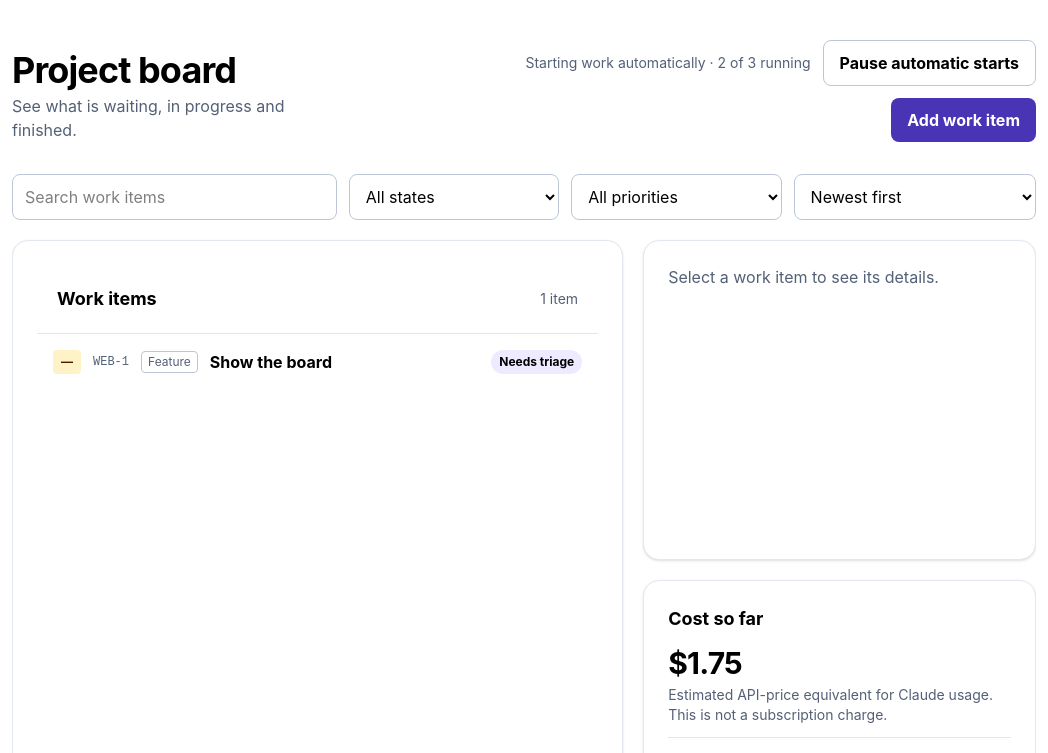
Test case: shows the project's cost beside its work, and an item's cost in its overview
expect the text "$1.75" is shown: met, box [668,645,742,681]
What coordinates should you click on to do the following:
click the button "— WEB-1 Feature Show the board Needs triage"
I would click on:
 (318, 362)
Its box is [45,342,590,382].
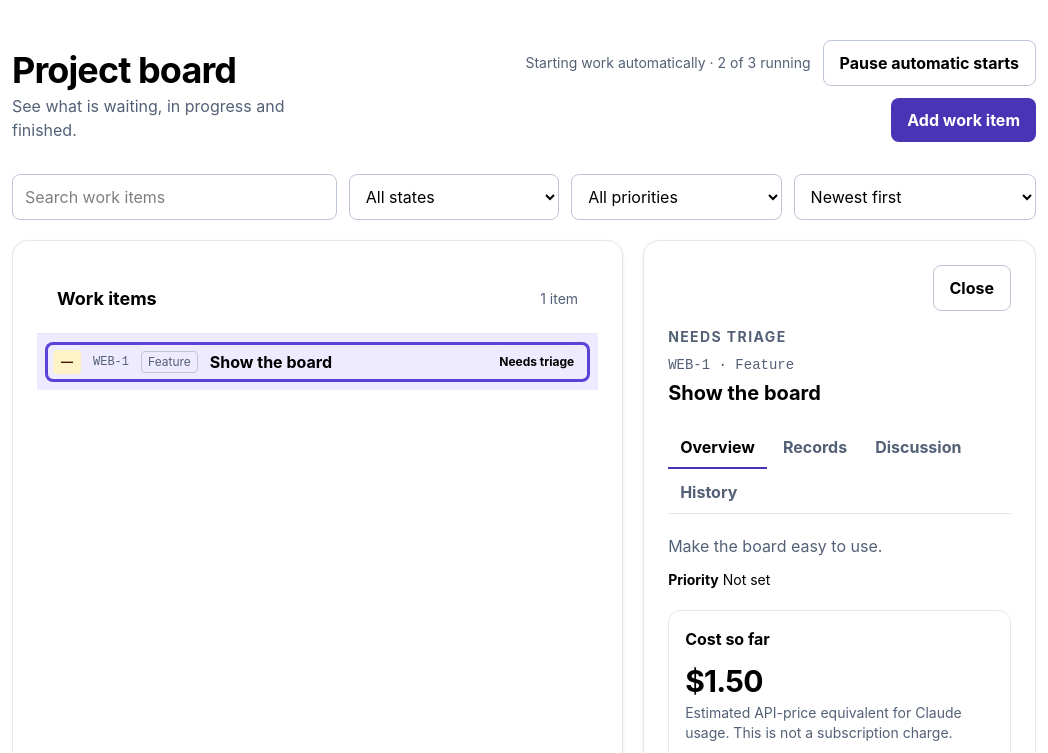
expect the text "$1.50" is shown: met, box [685,663,763,699]
